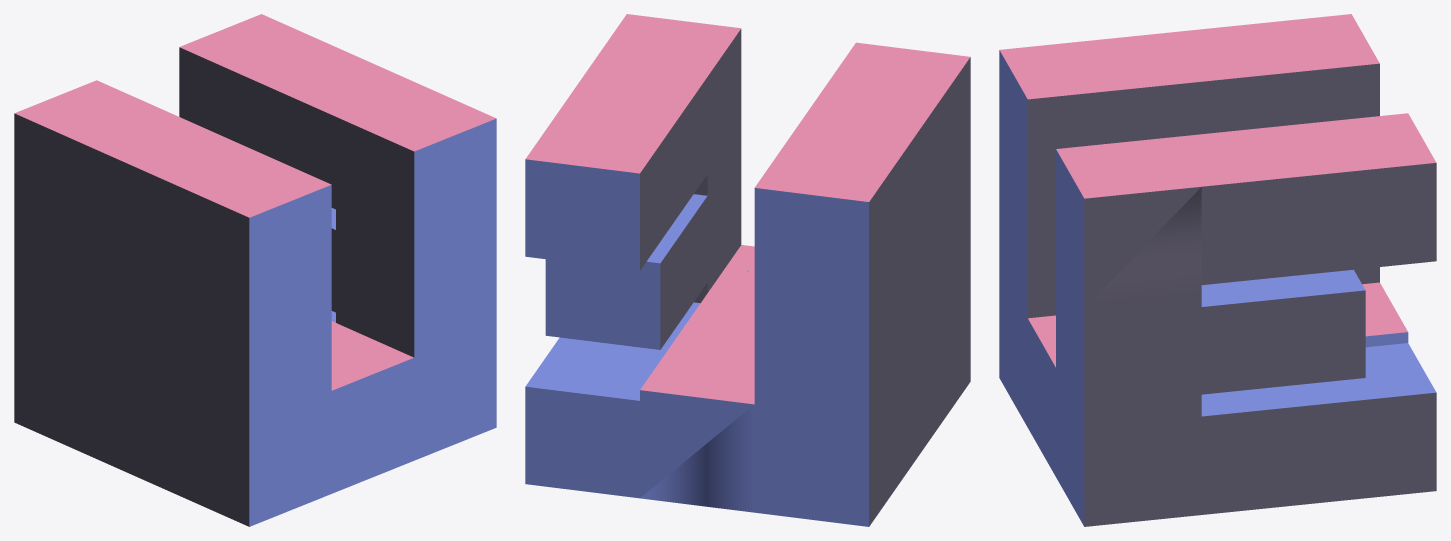
The model's file is urbanescapegltf.gltf.
3 views of the same model, side by side, from view 1: azimuth 30°, elevation 25°; view 2: azimuth 150°, elevation 25°; view 3: azimuth 270°, elevation 25° (orthographic). The views are drawn at different scales.
Parts seen in each view (by area): view 1: Cloner-Mat.2_1, Cloner-Mat.1_1, Cloner-Mat_1; view 2: Cloner-Mat.1_1, Cloner-Mat.2_1, Cloner-Mat_1; view 3: Cloner-Mat.2_1, Cloner-Mat_1, Cloner-Mat.1_1.
Part boxes in pixels (left/top/right/bottom): Cloner-Mat.2_1: left=14, top=47, right=414, bottom=526; Cloner-Mat.1_1: left=249, top=118, right=496, bottom=526; Cloner-Mat_1: left=14, top=14, right=496, bottom=390; Cloner-Mat.1_1: left=525, top=159, right=868, bottom=526; Cloner-Mat.2_1: left=640, top=29, right=970, bottom=526; Cloner-Mat_1: left=525, top=14, right=970, bottom=404; Cloner-Mat.2_1: left=1027, top=63, right=1436, bottom=526; Cloner-Mat_1: left=999, top=14, right=1436, bottom=367; Cloner-Mat.1_1: left=999, top=50, right=1436, bottom=526.
Bounding box in the file's own units: 1.89 × 1.57 × 1.89.
